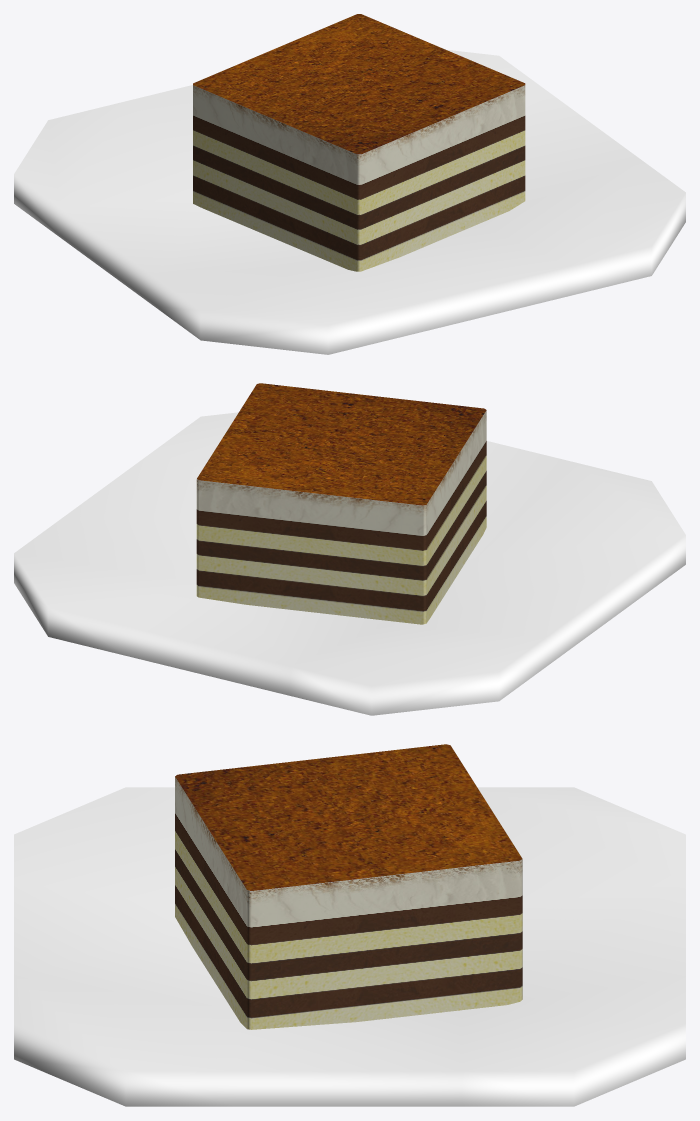
Rendered from Tiramisu.fbx.
3 views of the same model, one above another, from view 1: azimuth 30°, elevation 25°; view 2: azimuth 150°, elevation 25°; view 3: azimuth 270°, elevation 25° (orthographic). The views are drawn at different scales.
Parts seen in each view (by area): view 1: Cake; view 2: Cake; view 3: Cake.
Part boxes in pixels (bbox=[...]): Cake: bbox=[14, 14, 685, 354]; Cake: bbox=[14, 383, 685, 715]; Cake: bbox=[14, 744, 685, 1106].
Size of the model in its own units: 40.64 by 11.14 by 40.64.
Materials: 2 (2 with a texture image).
